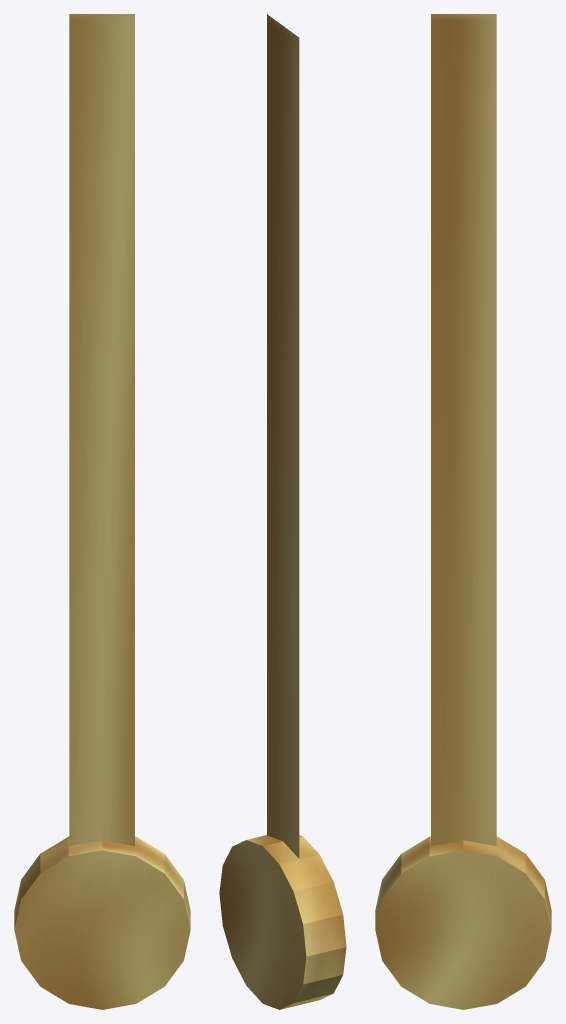
The model's file is pend.obj.
3 renders of one model, left to right at view 1: azimuth 90°, elevation 25°; view 2: azimuth 210°, elevation 25°; view 3: azimuth 270°, elevation 25°, orthographic.
Parts seen in each view (by area): view 1: Cylinder.001; view 2: Cylinder.001; view 3: Cylinder.001.
Part boxes in pixels (box(x1,y1,x2,y2)): Cylinder.001: box(14, 14, 190, 1009); Cylinder.001: box(219, 14, 346, 1009); Cylinder.001: box(375, 14, 551, 1009).
Size of the model in its own units: 0.04 by 0.926 by 0.15.
1 material, 1 textured.
